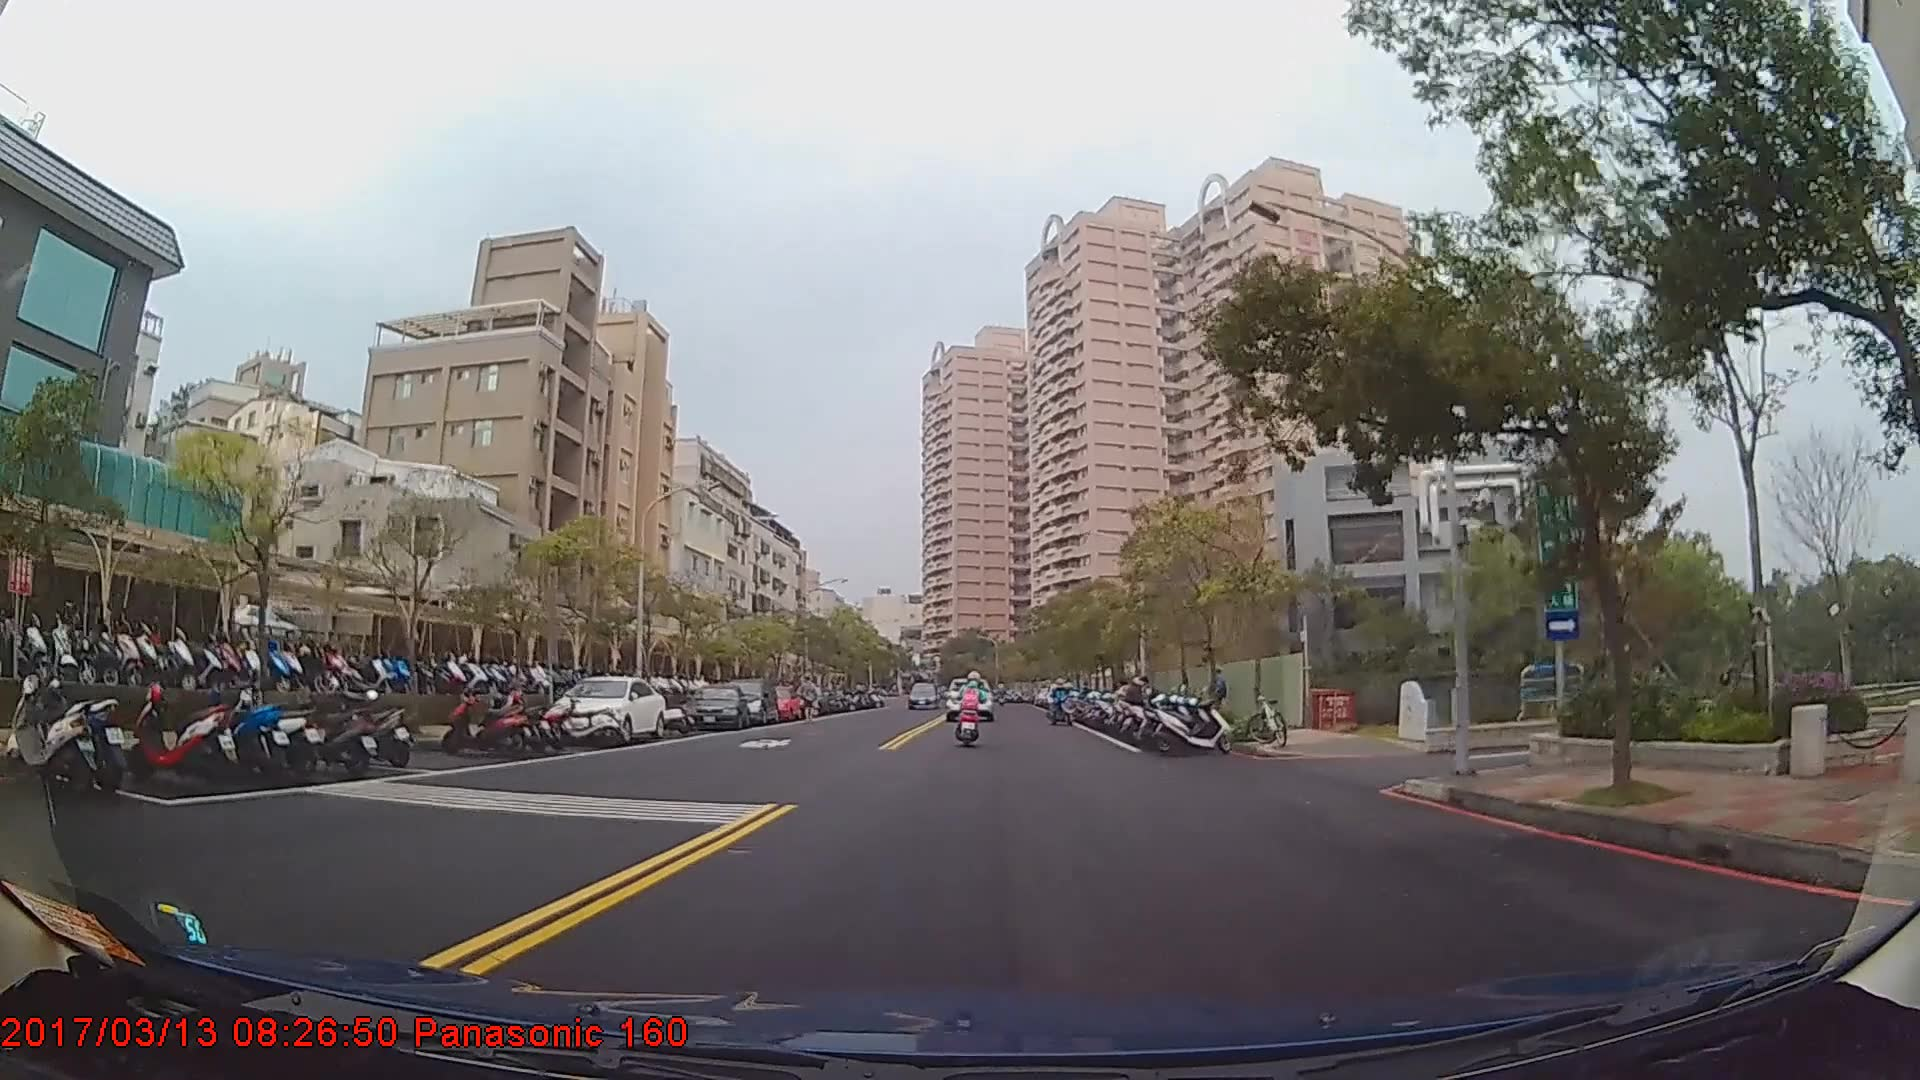pedestrian: (1206, 668, 1229, 725), (796, 678, 819, 724)
rider: (958, 670, 987, 742), (1048, 677, 1073, 725)
vehicle: (549, 674, 667, 742), (718, 676, 780, 725), (682, 683, 747, 729), (944, 675, 993, 722), (905, 680, 937, 707)
